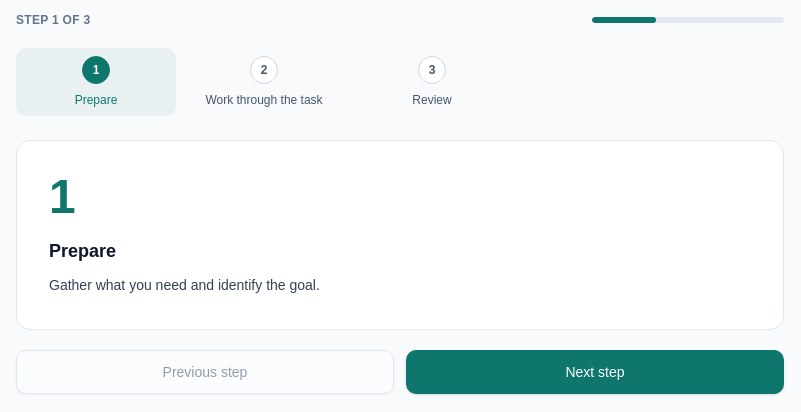
Scenario: process-step styles › navigates numbered steps and reports the exact interacted step
Expected: the element showing "1 Prepare Gather what you need and identify the goal." is shown, 16,140 -> 784,330
Click the button "Next step".
click(595, 372)  # box 406,350 -> 784,394
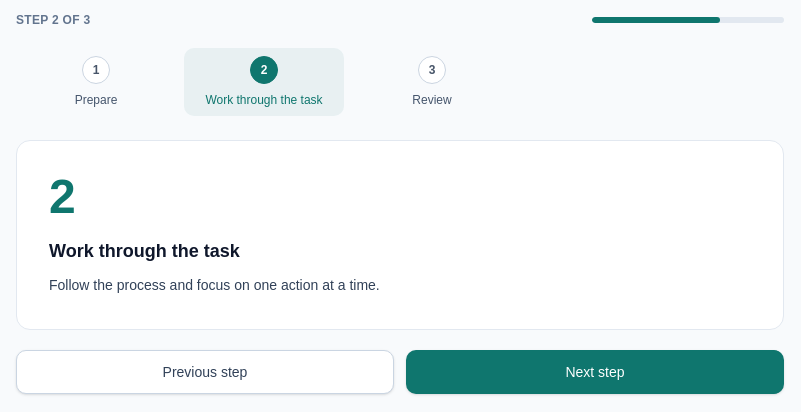
Expected: the element that starts with "Work through the task" shows "Follow the process and focus on one action at a time.", 49,277 -> 380,293
